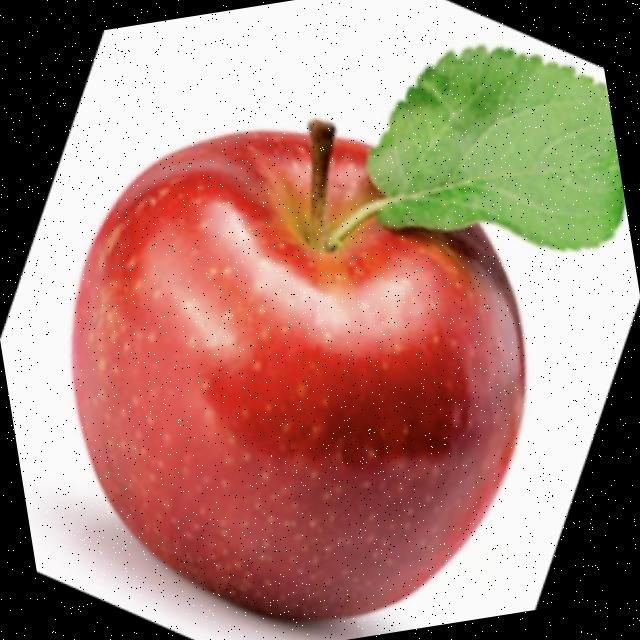Ripe: (29, 75, 573, 640)
